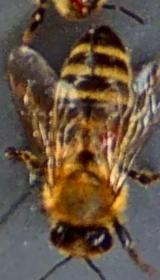varroa_mite: (100, 116, 127, 159)
